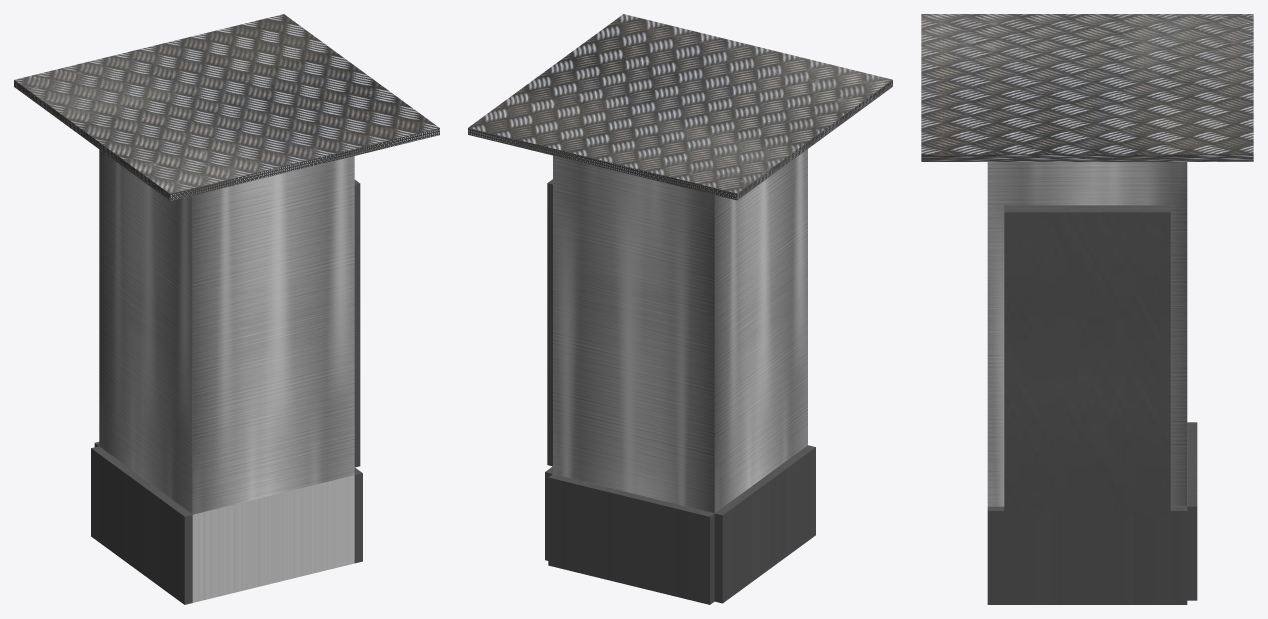
File: mainBarrier.obj
The picture shows the model from 3 angles, left to right: view 1: azimuth 30°, elevation 25°; view 2: azimuth 150°, elevation 25°; view 3: azimuth 270°, elevation 25°; orthographic projection. The views are drawn at different scales.
Visible parts, largest first — view 1: Main_Cube; view 2: Main_Cube; view 3: Main_Cube.
Part boxes in pixels (x1=…): Main_Cube: x1=14, y1=14, x2=439, y2=604; Main_Cube: x1=468, y1=14, x2=892, y2=604; Main_Cube: x1=921, y1=14, x2=1253, y2=604.
Bounding box in the file's own units: 4 × 6.3 × 4.
